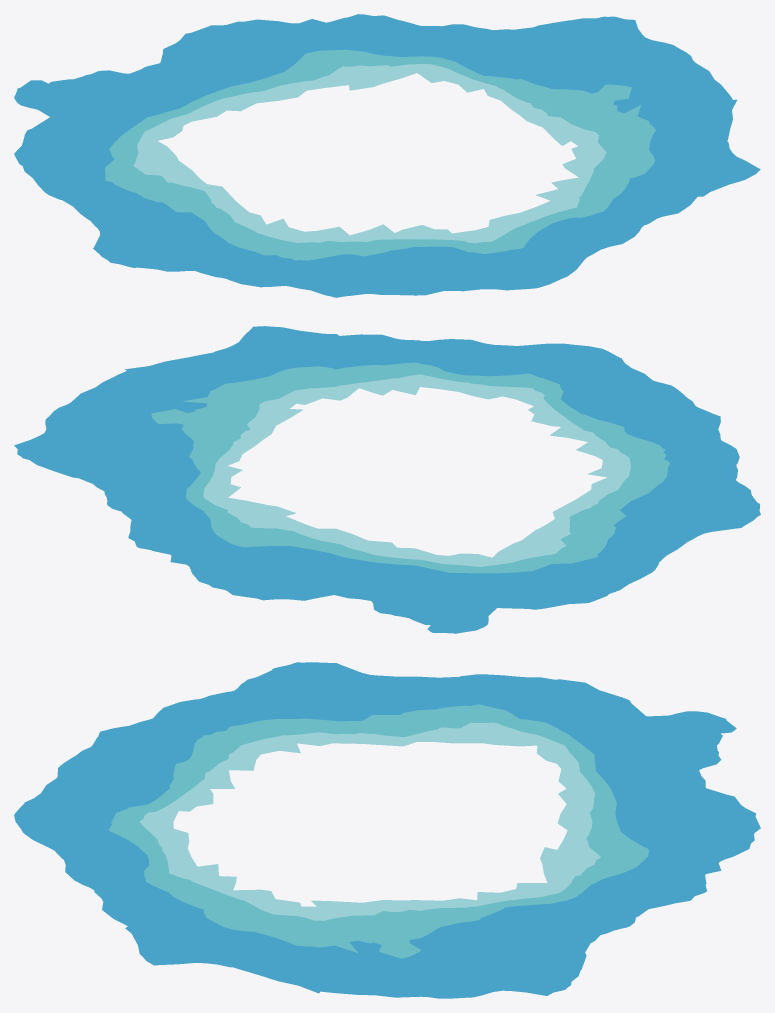
File: Isl-islet5-Water.fbx
The picture shows the model from 3 angles, top to bottom: view 1: azimuth 30°, elevation 25°; view 2: azimuth 150°, elevation 25°; view 3: azimuth 270°, elevation 25°; orthographic projection. The views are drawn at different scales.
Parts seen in each view (by area): view 1: Isl-islet5-Water; view 2: Isl-islet5-Water; view 3: Isl-islet5-Water.
Part boxes in pixels (x1,y1,x2,y2): Isl-islet5-Water: [14, 14, 760, 297]; Isl-islet5-Water: [14, 326, 760, 633]; Isl-islet5-Water: [14, 662, 760, 998].
Bounding box in the file's own units: 38.84 × 0 × 36.43.
